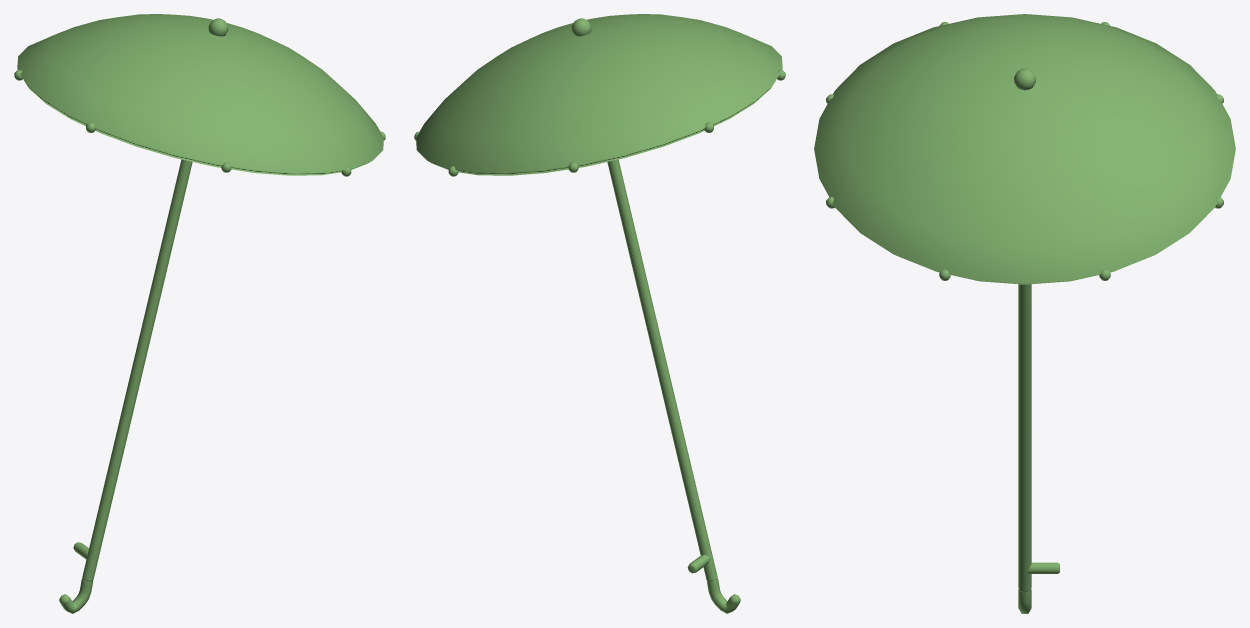
Rendered from green_umbrella.glb.
3 renders of one model, left to right at view 1: azimuth 30°, elevation 25°; view 2: azimuth 150°, elevation 25°; view 3: azimuth 270°, elevation 25°, orthographic. The views are drawn at different scales.
Visible parts, largest first — view 1: green_umbrella_ArmR; view 2: green_umbrella_ArmR; view 3: green_umbrella_ArmR.
Boxes of the visible parts, box(x1,y1,x2,y2) form: green_umbrella_ArmR: box(14, 14, 385, 613); green_umbrella_ArmR: box(414, 14, 785, 613); green_umbrella_ArmR: box(814, 14, 1235, 613).
Bounding box in the file's own units: 0.8703 × 1.47 × 0.9.
